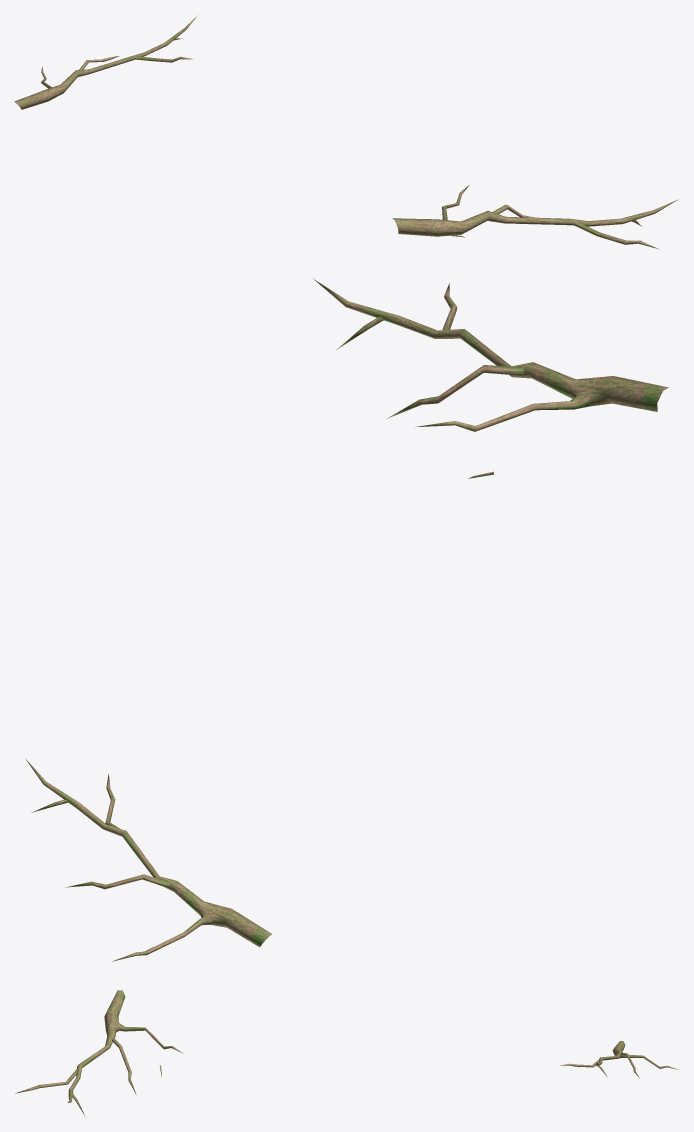
File: branch.glb
3 renders of one model, top to bottom at view 1: azimuth 30°, elevation 25°; view 2: azimuth 150°, elevation 25°; view 3: azimuth 270°, elevation 25°, orthographic. The views are drawn at different scales.
Visible parts, largest first — view 1: trees_bark_001_col.jpg__; view 2: trees_bark_001_col.jpg__; view 3: trees_bark_001_col.jpg__.
Boxes of the visible parts, bbox=[...] form: trees_bark_001_col.jpg__: bbox=[14, 15, 678, 249]; trees_bark_001_col.jpg__: bbox=[26, 279, 668, 961]; trees_bark_001_col.jpg__: bbox=[15, 990, 678, 1116].
Size of the model in its own units: 255 by 78.91 by 573.
1 material, 1 textured.
